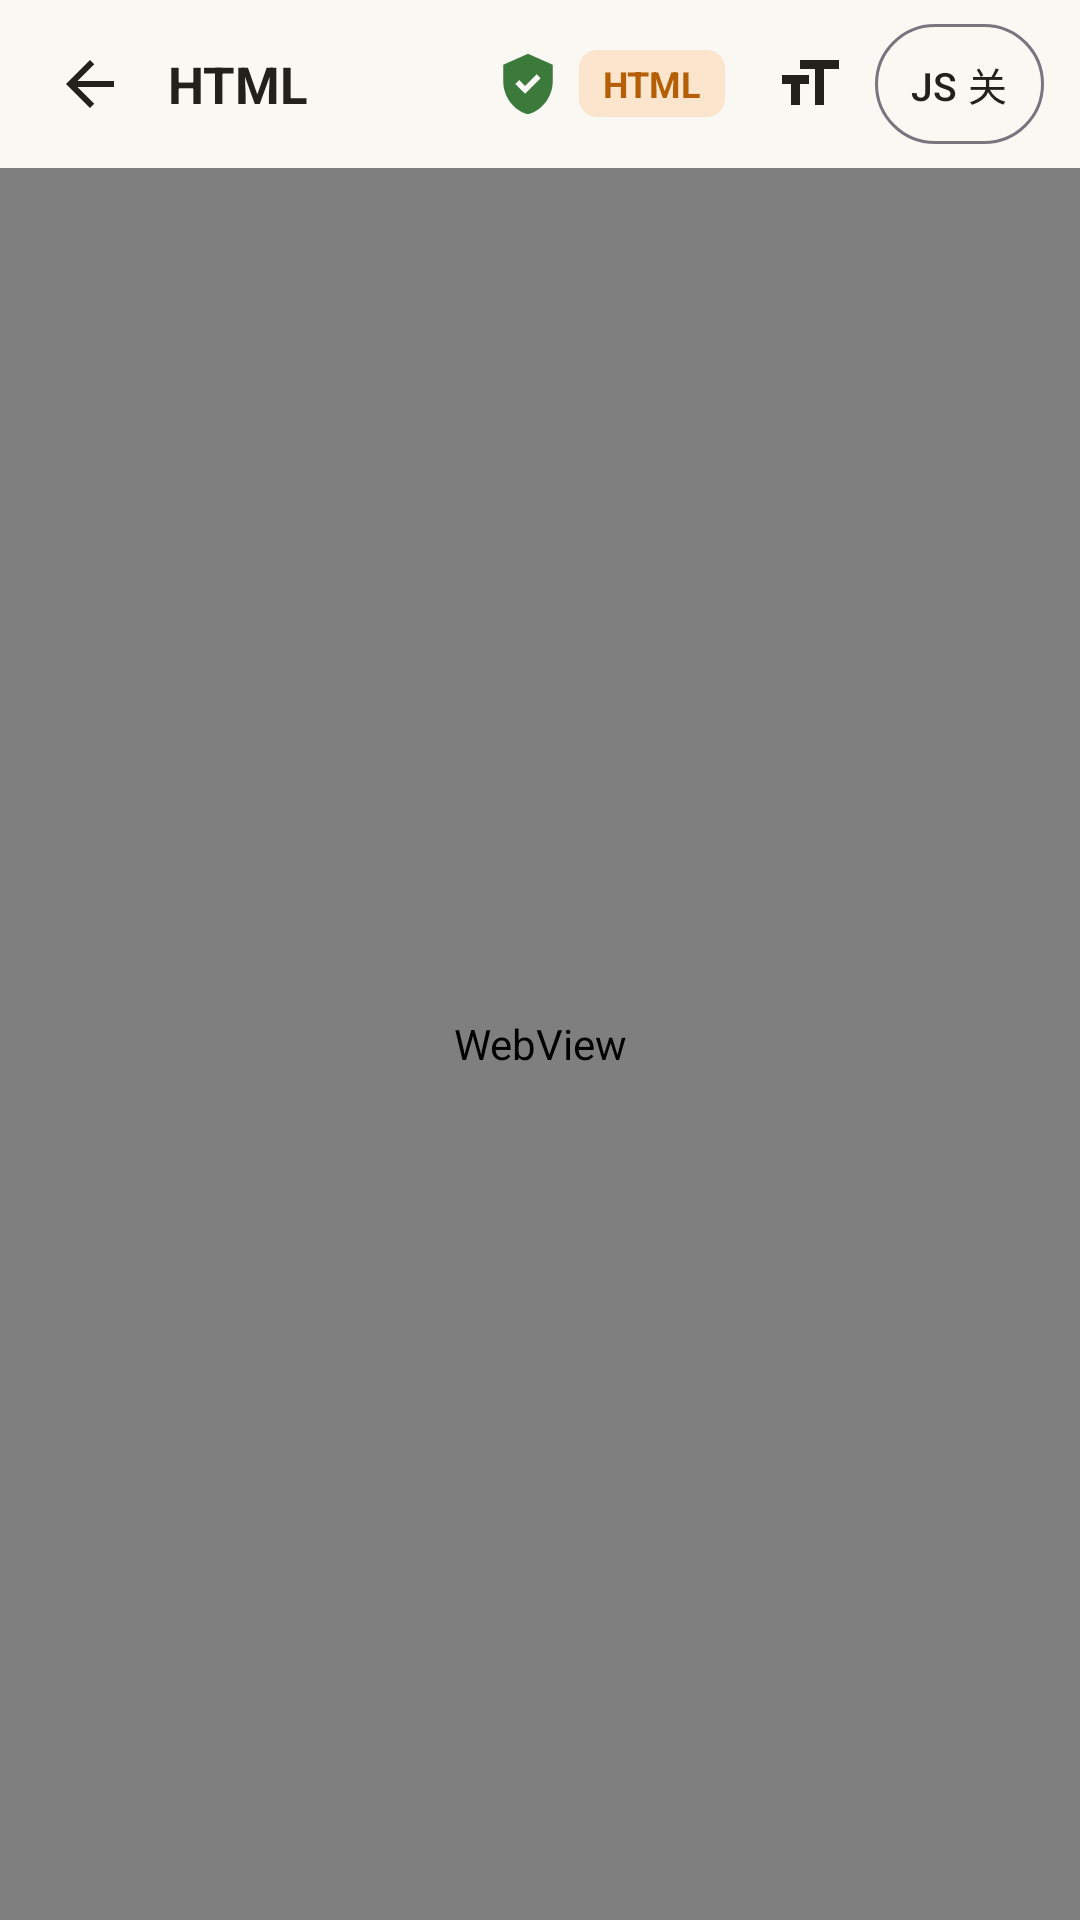

Icons on this 1080px x 1920px Android screen, each with its box as (x1, y1, x2, y2):
本地安全: (503, 54, 553, 114)
返回: (66, 60, 114, 108)
阅读设置: (782, 60, 839, 105)
